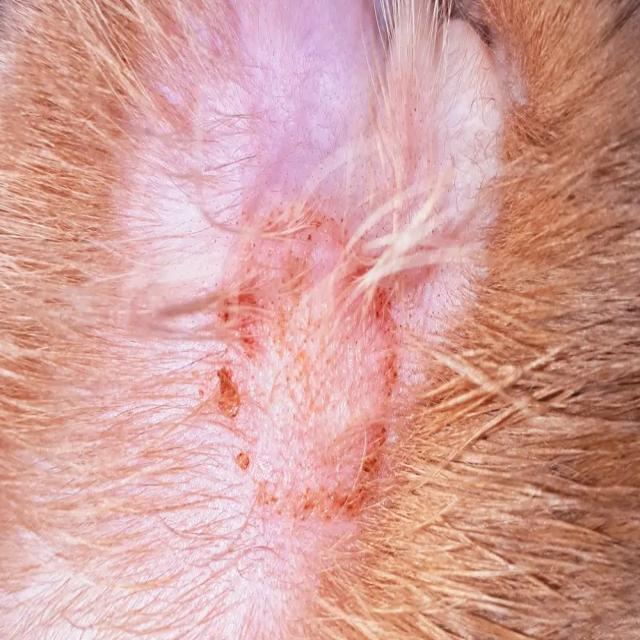hac lao: (119, 131, 488, 595)
